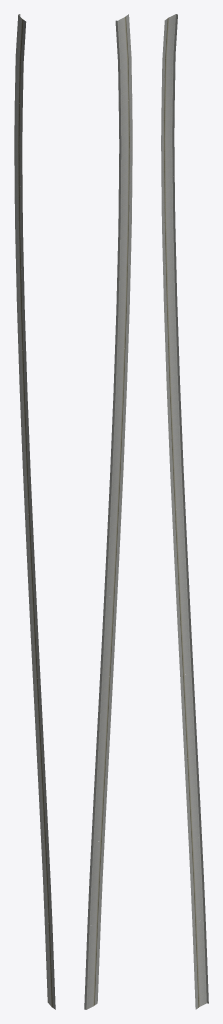
File: _1WALL_03_EMIRATES_SUB1.obj
3 renders of one model, left to right at view 1: azimuth 30°, elevation 25°; view 2: azimuth 150°, elevation 25°; view 3: azimuth 330°, elevation 25°, orthographic.
Parts seen in each view (by area): view 1: _1WALL_03_EMIRATES_SUB1_Scene.264; view 2: _1WALL_03_EMIRATES_SUB1_Scene.264; view 3: _1WALL_03_EMIRATES_SUB1_Scene.264.
Part boxes in pixels (<box>): _1WALL_03_EMIRATES_SUB1_Scene.264: <box>14,14,55,1009</box>; _1WALL_03_EMIRATES_SUB1_Scene.264: <box>84,14,132,1009</box>; _1WALL_03_EMIRATES_SUB1_Scene.264: <box>161,14,208,1009</box>.
Bounding box in the file's own units: 384 × 9611 × 186.
